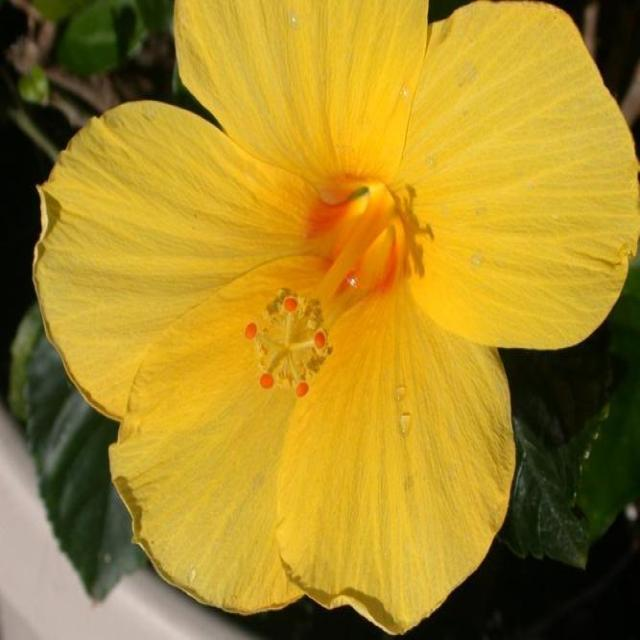hibiscus: (34, 9, 594, 640)
